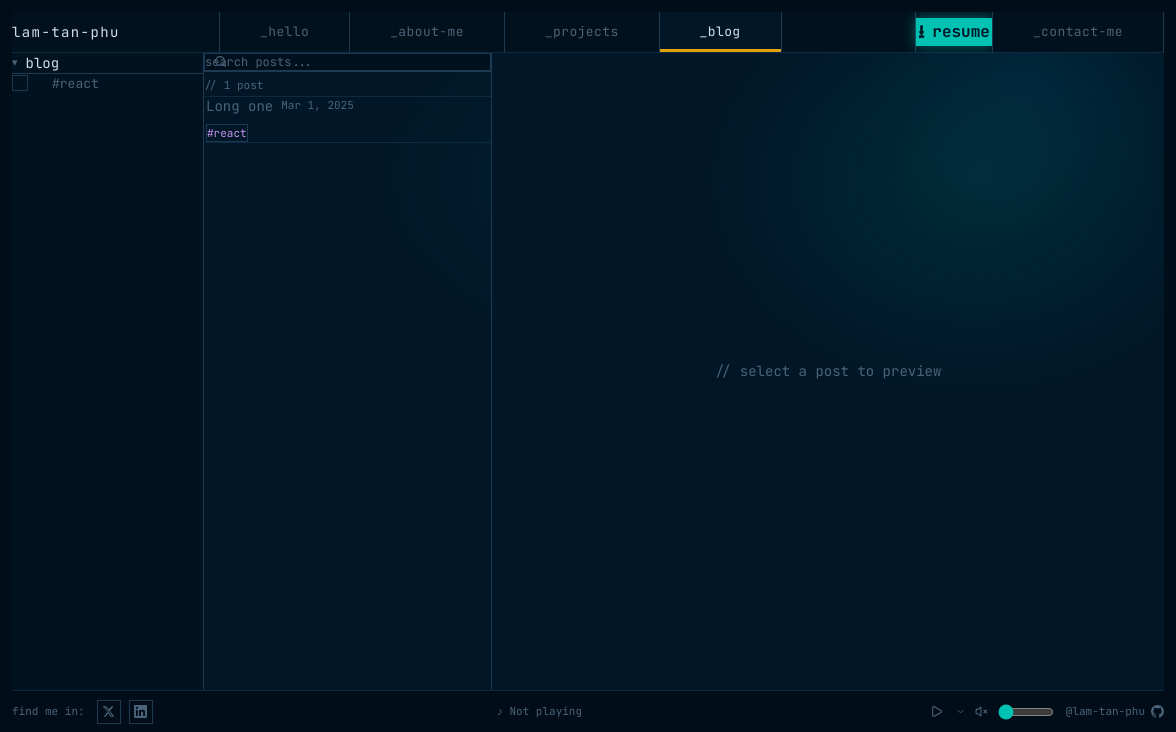
Test: BlogPage — preview › estimates reading time from excerpt length at 200 words per minute
What coordinates should you click on to do the following:
click the button "Long one Mar 1, 2025 #react"
I would click on:
 (240, 106)
Its box is [204,96,491,143].
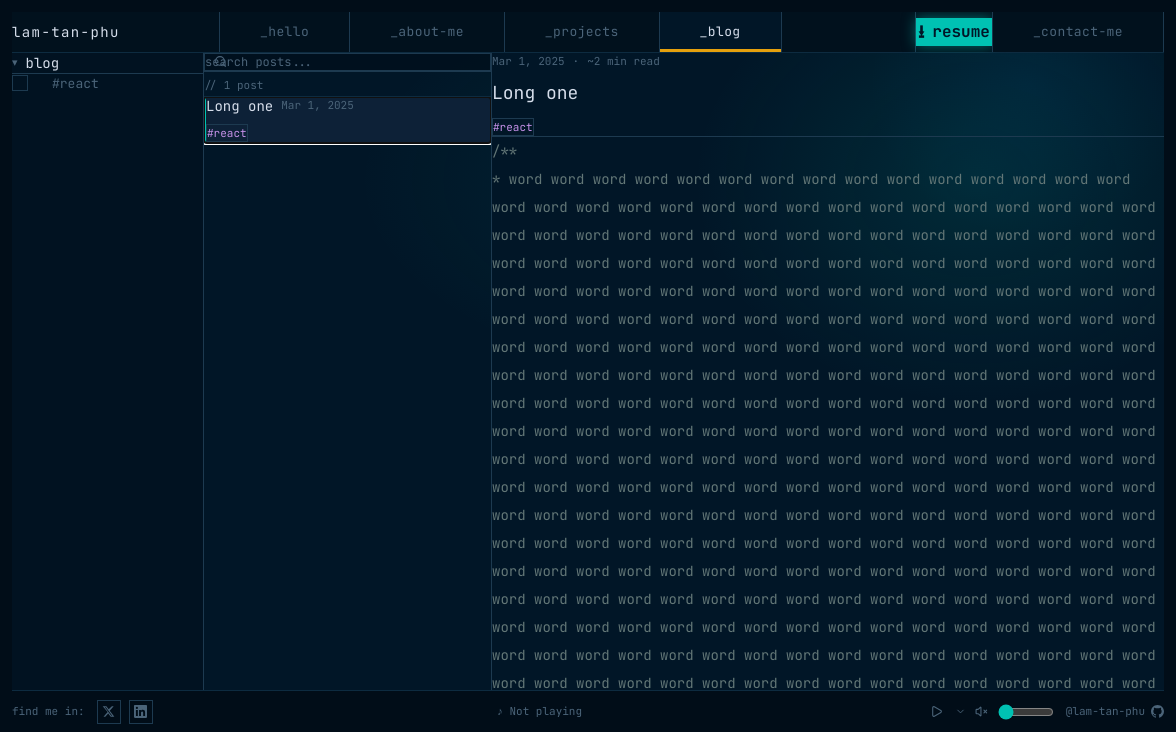
expect the text "~2 min read" is shown: met, box [587,52,660,69]
